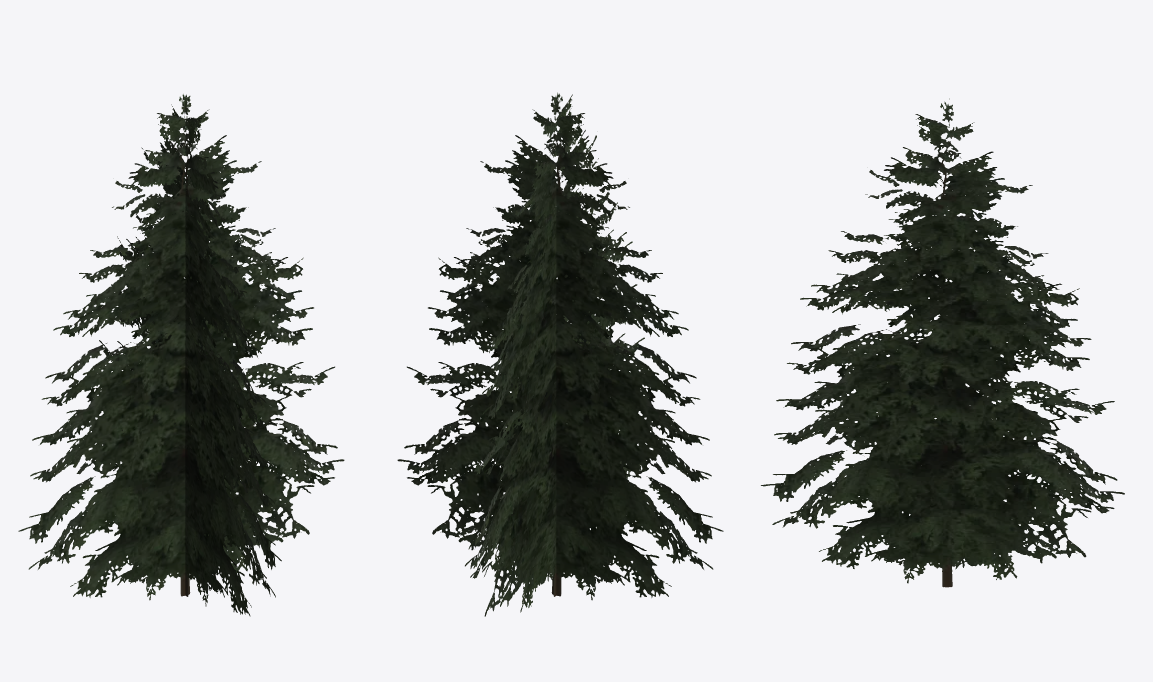
Rendered from baum_fichte_6_lod2.glb.
The picture shows the model from 3 angles, left to right: view 1: azimuth 30°, elevation 25°; view 2: azimuth 150°, elevation 25°; view 3: azimuth 270°, elevation 25°; orthographic projection. The views are drawn at different scales.
Visible parts, largest first — view 1: Billboard; view 2: Billboard; view 3: Billboard.
Boxes of the visible parts, box(x1,y1,x2,y2) form: Billboard: box(18, 94, 344, 616); Billboard: box(397, 92, 723, 616); Billboard: box(761, 98, 1124, 587).
Size of the model in its own units: 9.85 by 14 by 9.85.
1 material, 1 textured.
